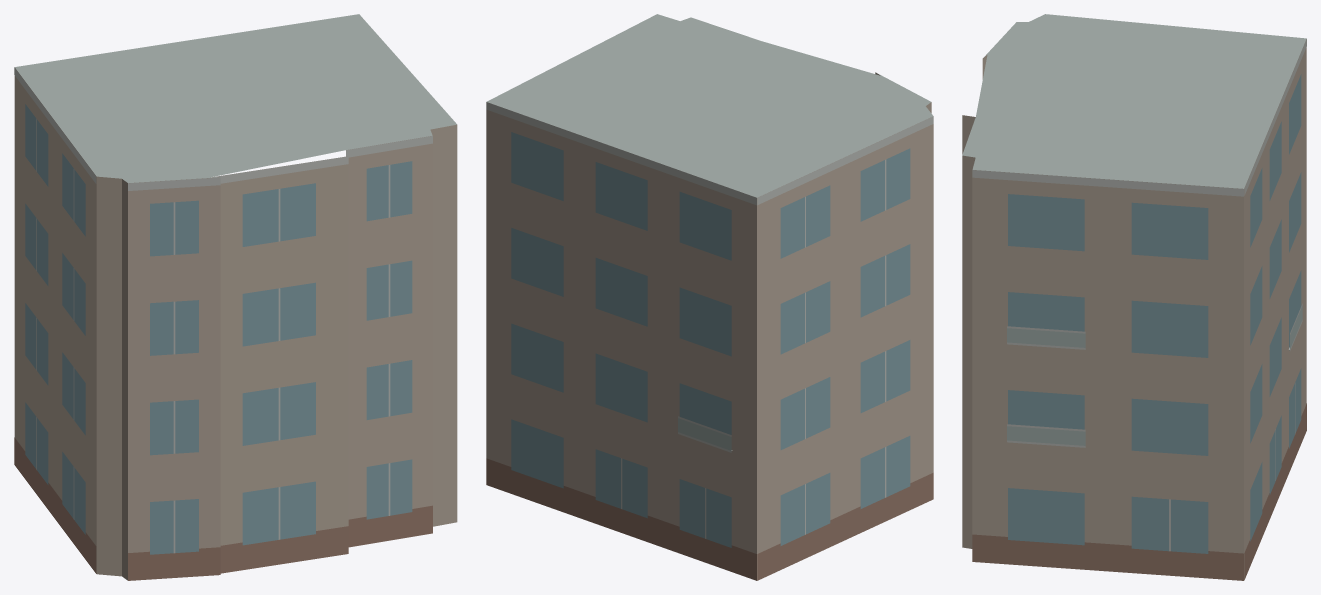
File: survey-upis-32649533.glb
The picture shows the model from 3 angles, left to right: view 1: azimuth 30°, elevation 25°; view 2: azimuth 150°, elevation 25°; view 3: azimuth 270°, elevation 25°; orthographic projection. The views are drawn at different scales.
Parts seen in each view (by area): view 1: survey-upis-32649533.tmp; view 2: survey-upis-32649533.tmp; view 3: survey-upis-32649533.tmp.
Part boxes in pixels (x1,y1,x2,y2): survey-upis-32649533.tmp: (14,14,457,580); survey-upis-32649533.tmp: (486,14,933,580); survey-upis-32649533.tmp: (962,14,1306,580).
Size of the model in its own units: 11.68 by 12.2 by 9.73.
